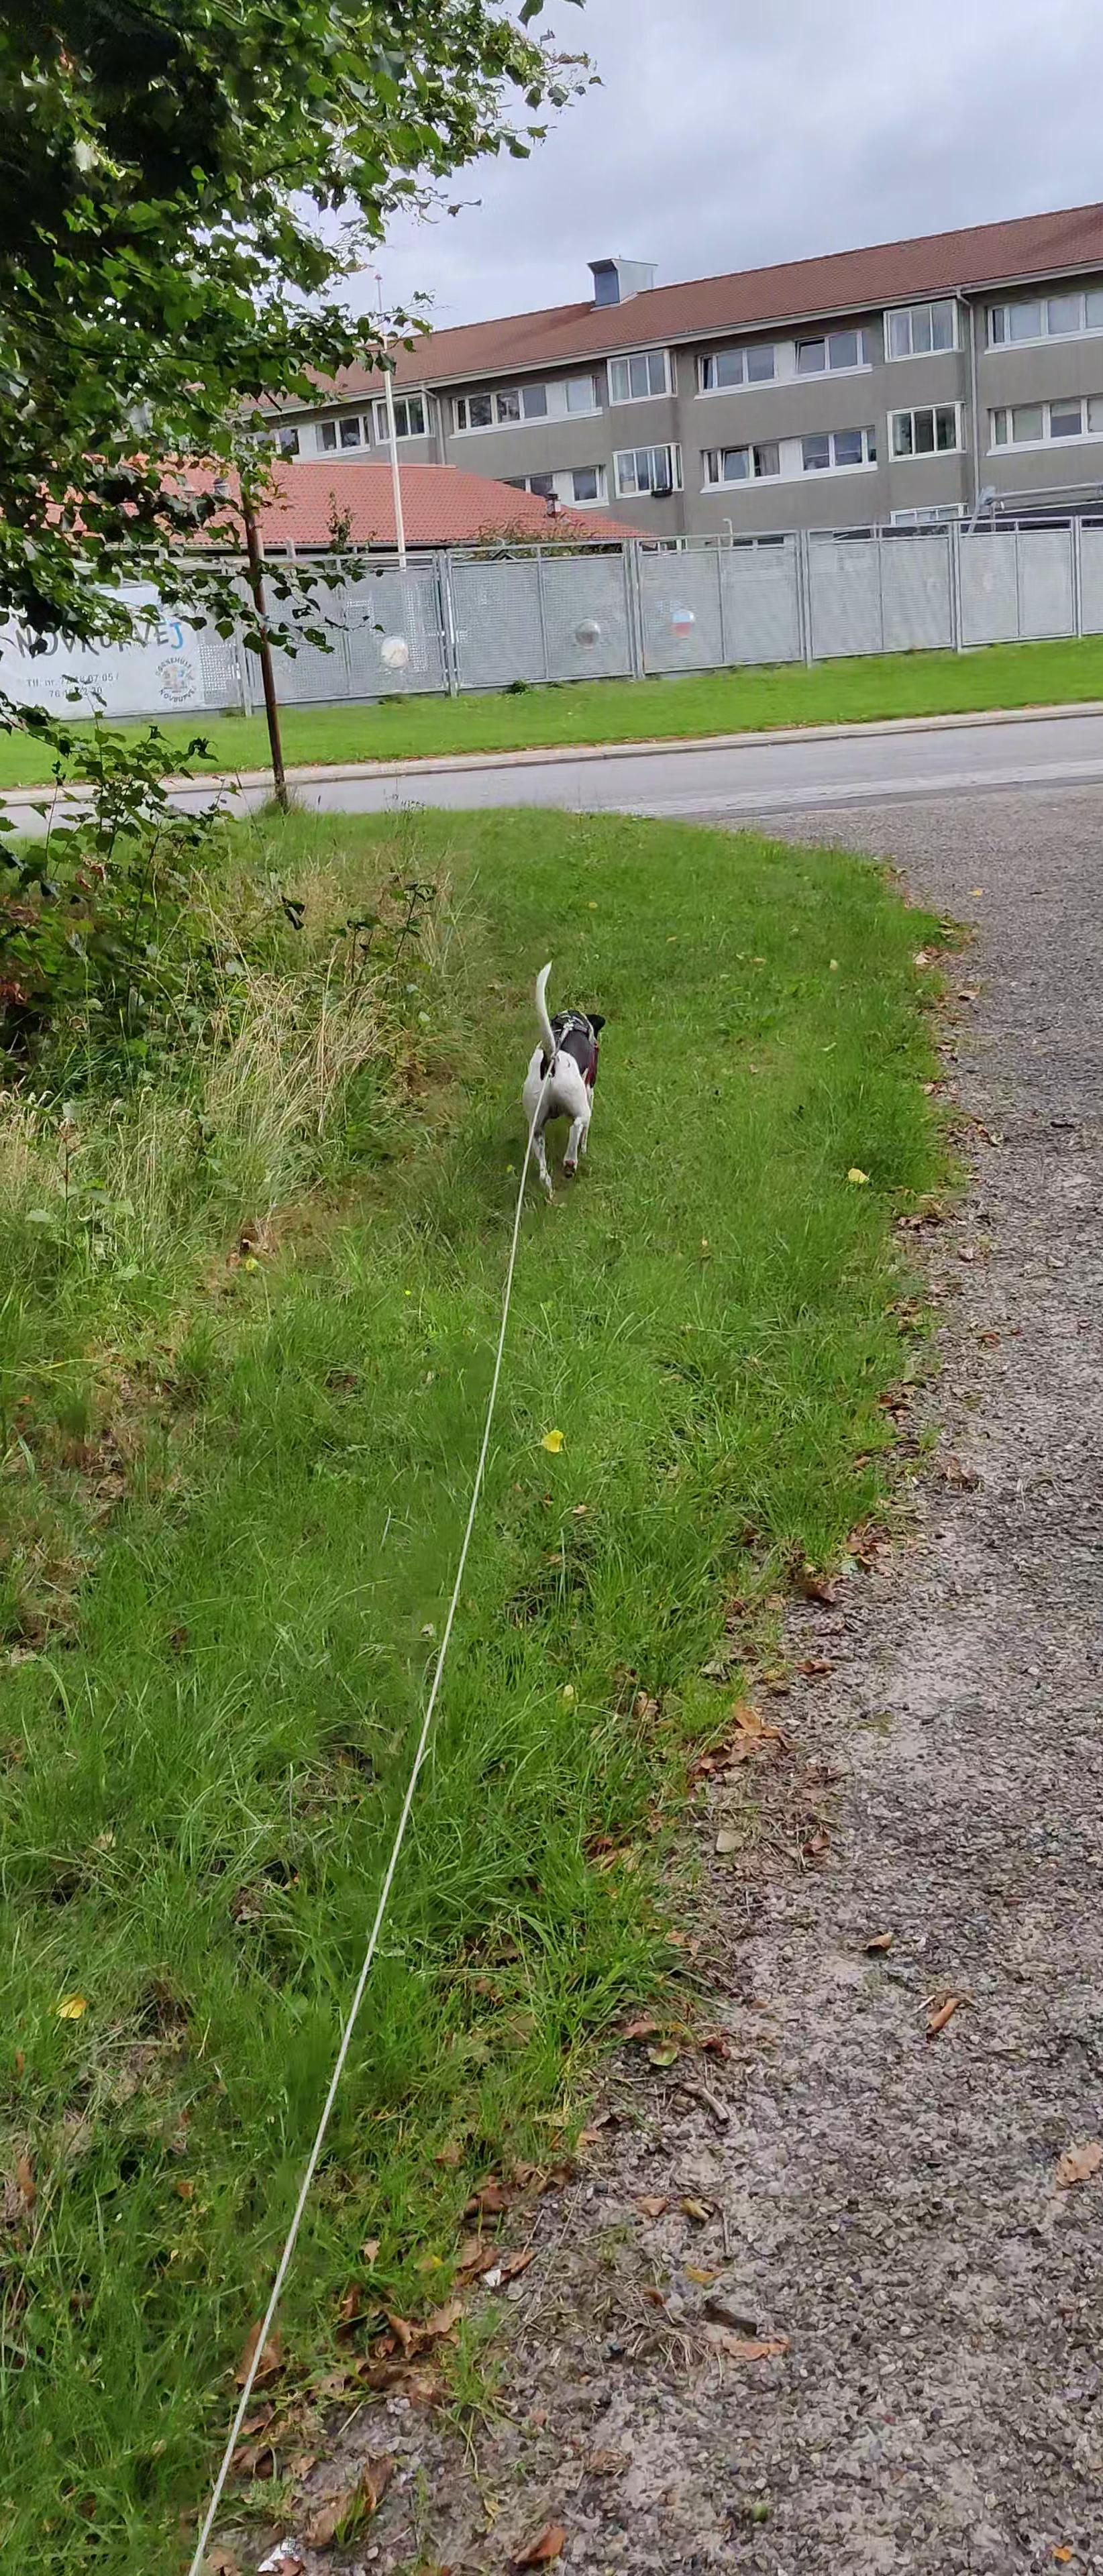Dog: (488, 953, 639, 1201)
